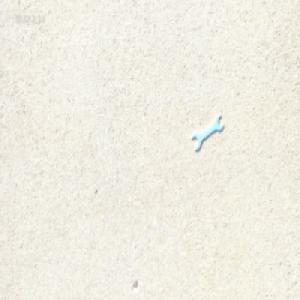Wrench: (191, 114, 223, 150)
